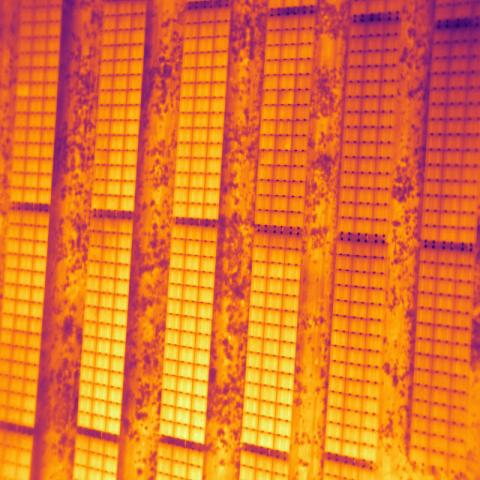fault: (16, 83, 29, 98)
